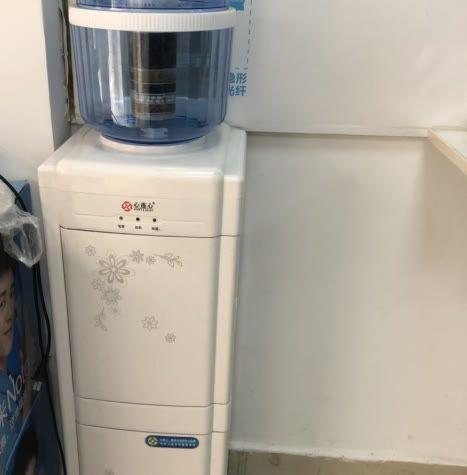Dispenser: (34, 0, 247, 473)
